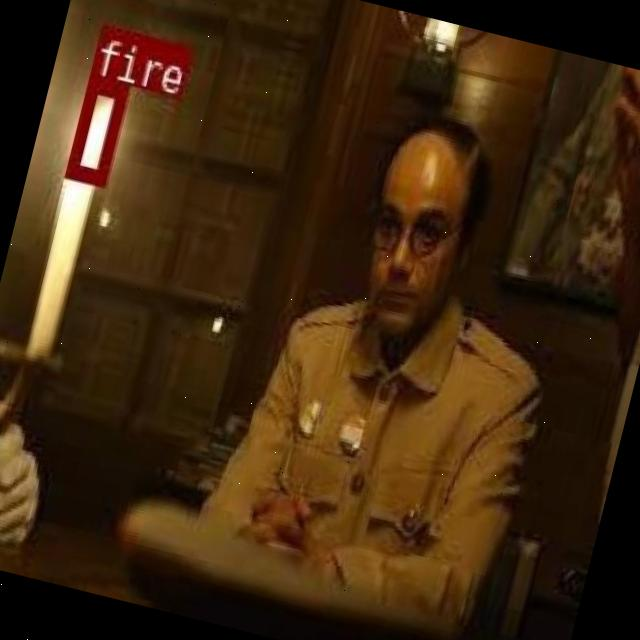fire: (63, 72, 126, 182)
